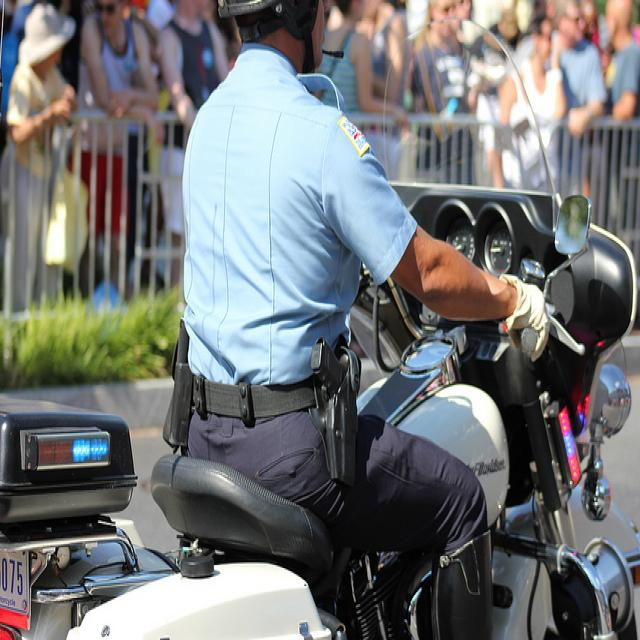motor: (0, 17, 633, 633)
